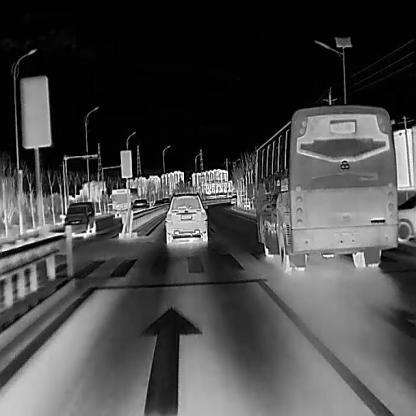car: (246, 102, 398, 273), (163, 189, 207, 244), (64, 200, 95, 237), (111, 186, 137, 218), (132, 198, 149, 217), (152, 199, 165, 211), (230, 196, 236, 203)
